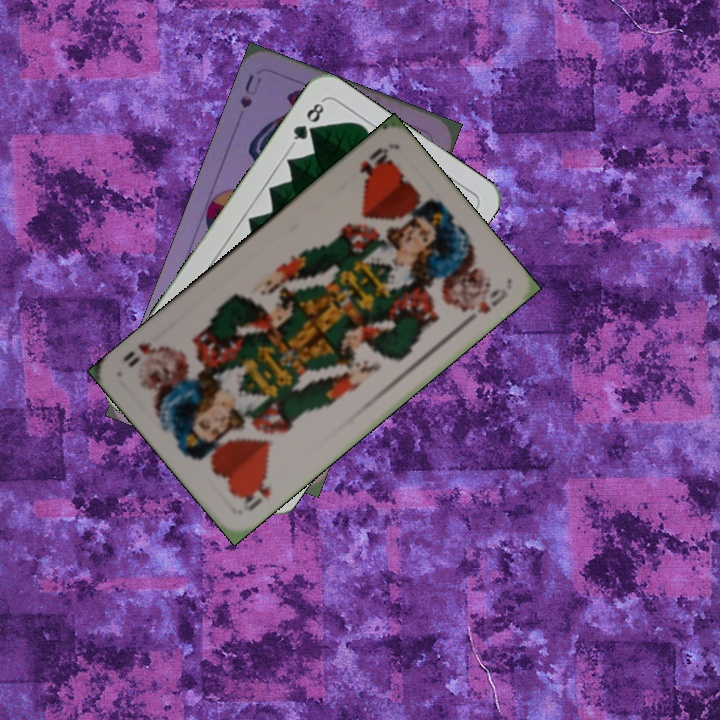G8: (287, 96, 327, 148)
HO: (355, 143, 393, 184), (237, 472, 274, 514)
SU: (236, 70, 265, 111)
